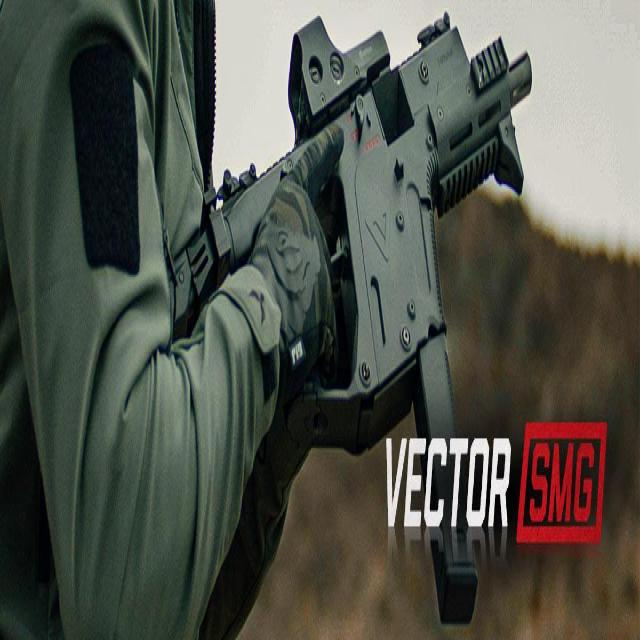weapon: (165, 13, 540, 635)
